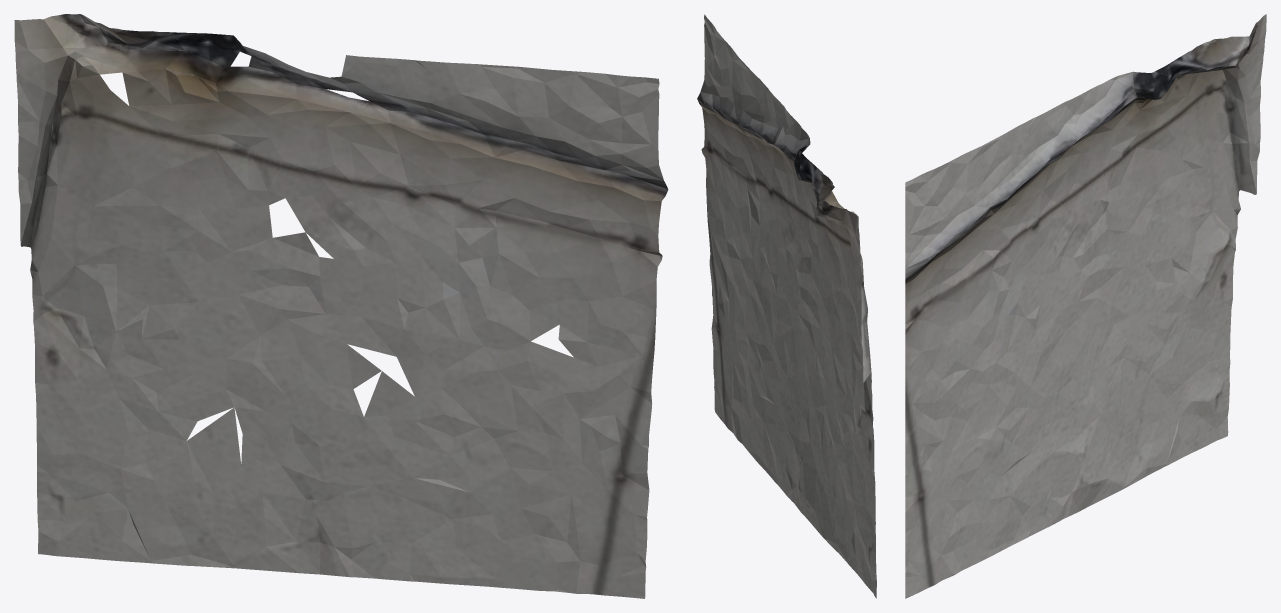
The picture shows the model from 3 angles, left to right: view 1: azimuth 30°, elevation 25°; view 2: azimuth 150°, elevation 25°; view 3: azimuth 270°, elevation 25°; orthographic projection. The views are drawn at different scales.
Size of the model in its own units: 0.7335 by 0.8374 by 0.6501.
Materials: 3 (3 with a texture image).
